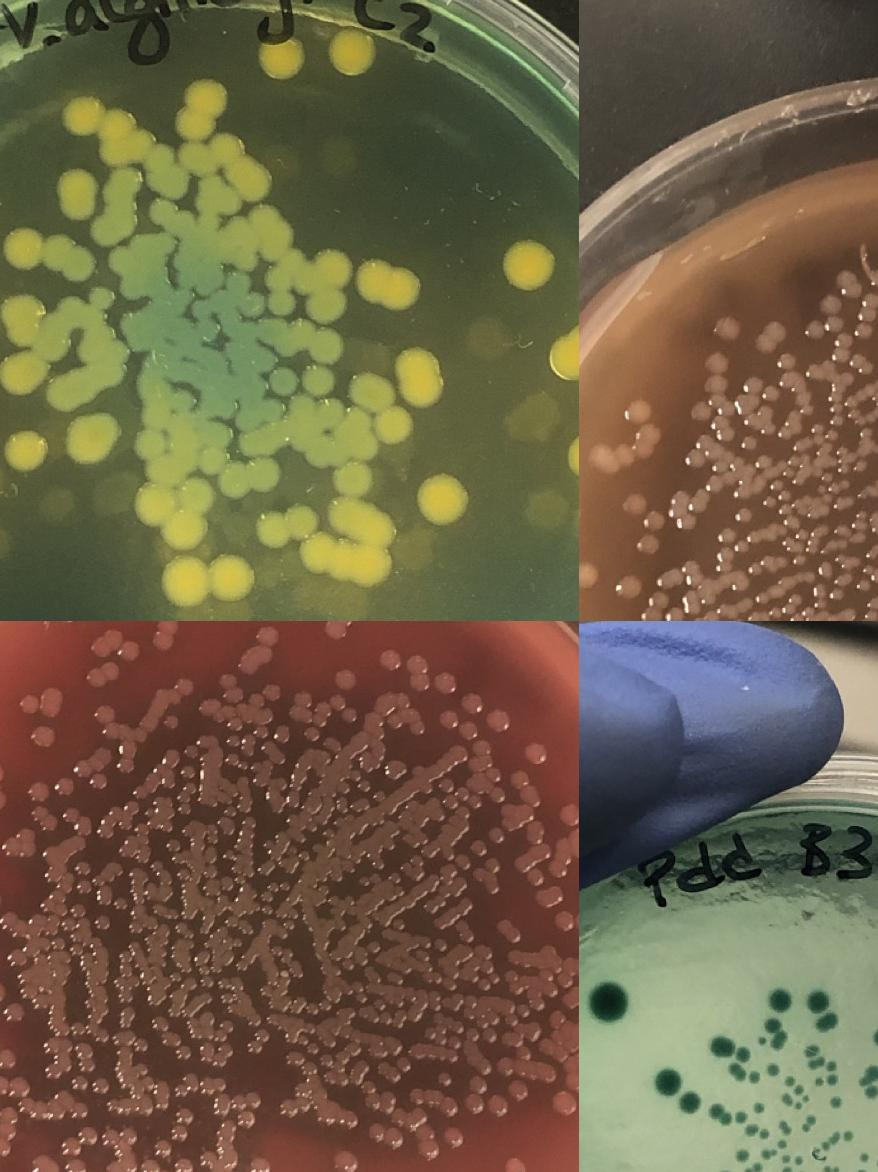pddamselae: (588, 980, 628, 1020), (806, 988, 840, 1034), (806, 1055, 842, 1090), (708, 1104, 749, 1128), (654, 1066, 684, 1098), (764, 1017, 788, 1052), (728, 1062, 762, 1084), (758, 1138, 789, 1160), (768, 987, 792, 1013), (710, 1036, 734, 1058), (794, 1084, 812, 1112), (781, 1153, 805, 1172), (820, 1133, 840, 1152), (681, 1092, 699, 1112), (800, 1114, 817, 1132), (829, 1093, 845, 1110), (765, 1061, 780, 1078), (778, 1120, 793, 1136), (734, 1148, 750, 1162), (735, 1048, 751, 1062), (743, 1162, 764, 1172), (864, 1084, 878, 1099), (866, 1065, 878, 1080), (806, 1044, 818, 1058), (824, 1163, 841, 1172), (859, 1151, 871, 1163), (843, 1130, 855, 1142), (758, 1128, 770, 1140), (745, 1124, 757, 1136), (752, 1101, 764, 1113), (781, 1094, 793, 1106), (783, 1072, 795, 1084), (756, 1034, 768, 1046), (874, 1028, 878, 1048)
valgino: (174, 202, 351, 344), (132, 404, 278, 550), (64, 98, 194, 256), (256, 497, 394, 585), (316, 372, 415, 462), (176, 78, 244, 170), (160, 554, 256, 604), (2, 294, 69, 362), (214, 397, 280, 457), (90, 167, 140, 246), (199, 162, 271, 212), (76, 322, 129, 386), (356, 262, 418, 310), (396, 348, 442, 408), (304, 328, 344, 396), (68, 414, 120, 462), (503, 242, 555, 290), (416, 476, 468, 522), (253, 348, 298, 398), (46, 234, 94, 280), (57, 170, 97, 220), (1, 353, 42, 394), (290, 430, 334, 468), (7, 430, 47, 470), (3, 228, 43, 268), (260, 34, 300, 74), (332, 32, 370, 72), (47, 376, 83, 412), (558, 322, 579, 371), (340, 464, 370, 496), (565, 431, 579, 480), (260, 398, 284, 422), (290, 394, 314, 418), (171, 388, 195, 412), (150, 345, 174, 369), (276, 332, 300, 356), (60, 298, 84, 322), (110, 248, 134, 272), (197, 209, 221, 233), (90, 287, 113, 311), (226, 215, 250, 238), (120, 276, 144, 298)
vangil: (302, 693, 360, 744), (320, 1042, 369, 1087), (438, 777, 484, 821), (72, 746, 113, 793), (553, 1052, 579, 1115), (424, 1022, 462, 1064), (90, 629, 138, 662), (7, 934, 53, 968), (68, 1041, 98, 1093), (0, 1066, 34, 1111), (112, 949, 140, 1002), (19, 686, 64, 718), (465, 1062, 492, 1114), (228, 1091, 262, 1129), (46, 1091, 90, 1120), (410, 1090, 459, 1116), (501, 792, 541, 822), (554, 888, 579, 933), (279, 1082, 312, 1116), (2, 826, 37, 858), (61, 1126, 98, 1156), (434, 744, 468, 775), (213, 1018, 234, 1068), (251, 625, 277, 665), (60, 806, 93, 837), (369, 1124, 405, 1151), (513, 856, 545, 886), (170, 1108, 196, 1144), (376, 1058, 412, 1084), (248, 682, 284, 708), (86, 662, 122, 688), (50, 898, 90, 921), (0, 1106, 18, 1157), (0, 910, 30, 940), (30, 804, 60, 834), (417, 1126, 441, 1162), (102, 1126, 140, 1148), (74, 858, 94, 899), (72, 1020, 108, 1042), (472, 856, 500, 884), (408, 654, 428, 692), (153, 621, 178, 651), (477, 962, 502, 991), (496, 919, 522, 945), (558, 957, 578, 988), (96, 813, 118, 841), (534, 886, 564, 906), (524, 741, 548, 766), (504, 1004, 530, 1027), (406, 710, 427, 738), (225, 717, 243, 749), (487, 710, 511, 734), (247, 1030, 269, 1056), (174, 1074, 197, 1098), (435, 671, 458, 695), (333, 1150, 357, 1172), (524, 820, 544, 846), (559, 803, 579, 827), (504, 970, 522, 996), (341, 980, 366, 998), (327, 621, 352, 639), (3, 1004, 24, 1024), (217, 1120, 236, 1142), (380, 1090, 396, 1116), (198, 964, 215, 988), (34, 1157, 61, 1172), (443, 1127, 463, 1147), (487, 1096, 507, 1116), (90, 1077, 110, 1097), (537, 1064, 557, 1084), (44, 1060, 64, 1080), (497, 1056, 517, 1076), (175, 1044, 195, 1064), (548, 1008, 568, 1028), (92, 913, 112, 933), (111, 894, 131, 914), (128, 867, 148, 887), (54, 776, 74, 796), (116, 756, 136, 776), (162, 748, 182, 768), (93, 706, 113, 726), (294, 689, 314, 709), (248, 1156, 272, 1172), (151, 1014, 170, 1034), (28, 782, 48, 801), (463, 694, 482, 714), (219, 672, 238, 692), (335, 669, 354, 689), (503, 1156, 526, 1172), (152, 1140, 172, 1158), (508, 1080, 526, 1100), (202, 844, 220, 864), (179, 762, 197, 782), (386, 760, 404, 780), (32, 728, 52, 746), (273, 724, 293, 742), (163, 711, 181, 731), (453, 853, 472, 871), (487, 826, 506, 844), (485, 766, 504, 784), (175, 678, 194, 696), (382, 651, 400, 670), (340, 1112, 358, 1130), (470, 838, 488, 856), (488, 786, 506, 804), (512, 771, 530, 789), (473, 740, 491, 758), (441, 710, 459, 728), (566, 835, 579, 859), (287, 1048, 304, 1066), (548, 861, 566, 878), (124, 798, 141, 816), (0, 1047, 15, 1067), (538, 966, 554, 984), (408, 852, 424, 870), (381, 834, 397, 852), (425, 796, 441, 814), (224, 750, 240, 768), (184, 742, 200, 760), (460, 722, 476, 740), (394, 692, 410, 710), (562, 992, 578, 1009), (392, 915, 408, 932), (423, 897, 439, 914), (324, 736, 340, 753), (254, 723, 270, 740), (65, 1159, 85, 1172), (372, 788, 388, 804), (508, 948, 522, 966), (335, 780, 350, 796), (386, 715, 402, 730), (164, 838, 180, 852), (355, 796, 371, 810), (347, 768, 363, 782), (106, 1098, 120, 1112), (362, 1080, 376, 1094), (212, 1078, 226, 1092), (142, 1076, 156, 1090), (135, 1062, 149, 1076), (412, 1045, 426, 1059), (306, 1042, 320, 1056), (135, 1038, 149, 1052), (305, 1002, 319, 1016), (373, 998, 387, 1012), (444, 977, 458, 991), (170, 970, 184, 984), (344, 959, 358, 973), (236, 958, 250, 972), (480, 945, 493, 959), (368, 938, 381, 952), (460, 928, 473, 942), (438, 1073, 450, 1087), (390, 1040, 402, 1054), (484, 1030, 496, 1044), (466, 1028, 478, 1042), (122, 1006, 134, 1020), (532, 998, 544, 1012), (200, 1044, 213, 1056), (434, 938, 446, 951), (0, 790, 6, 810), (0, 981, 5, 1001)
vharveyi: (803, 289, 878, 365), (620, 489, 666, 530), (702, 350, 732, 401), (612, 438, 655, 466), (754, 320, 787, 356), (742, 375, 779, 404), (615, 573, 643, 601), (622, 398, 650, 426), (713, 316, 741, 344), (838, 269, 860, 300), (824, 414, 846, 442), (579, 560, 598, 588), (816, 560, 834, 580), (682, 558, 700, 578), (718, 527, 736, 547), (735, 506, 753, 526), (740, 434, 758, 454), (829, 586, 845, 602), (856, 578, 872, 592)
